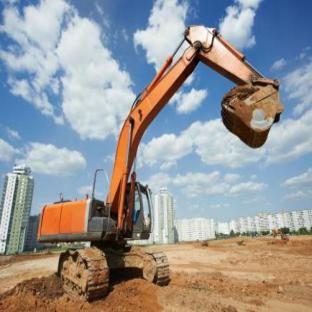ExcavationMachinery: (31, 18, 279, 298)
